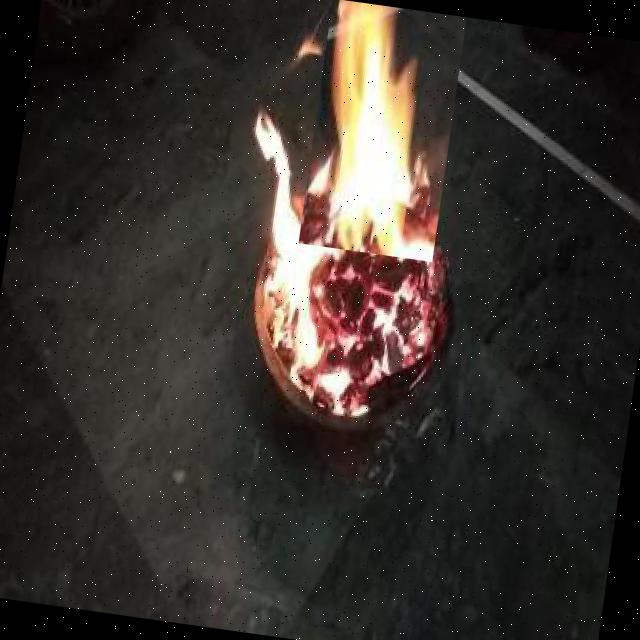fire: (298, 0, 466, 262)
